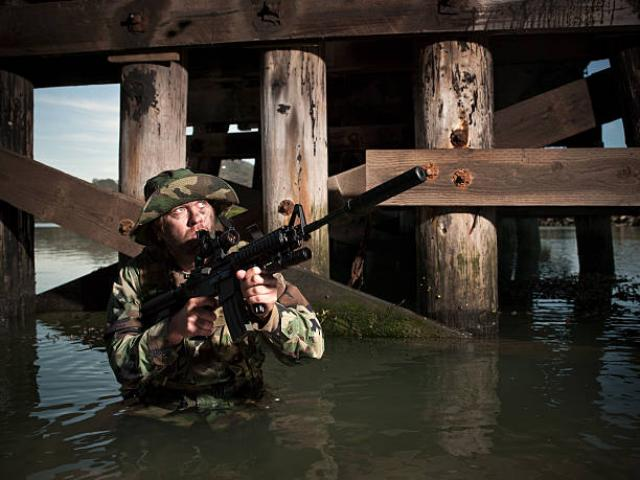other: (105, 162, 323, 420)
